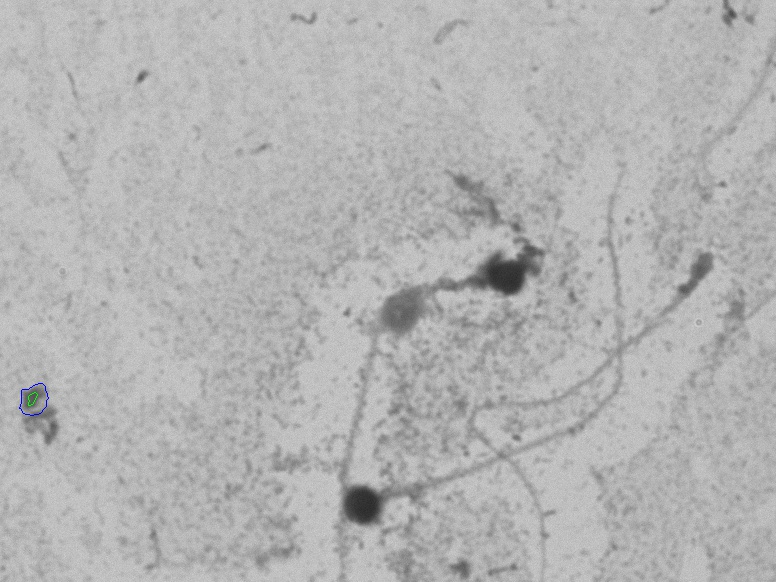Abnormal: (280, 182, 558, 400), (328, 418, 617, 567)
